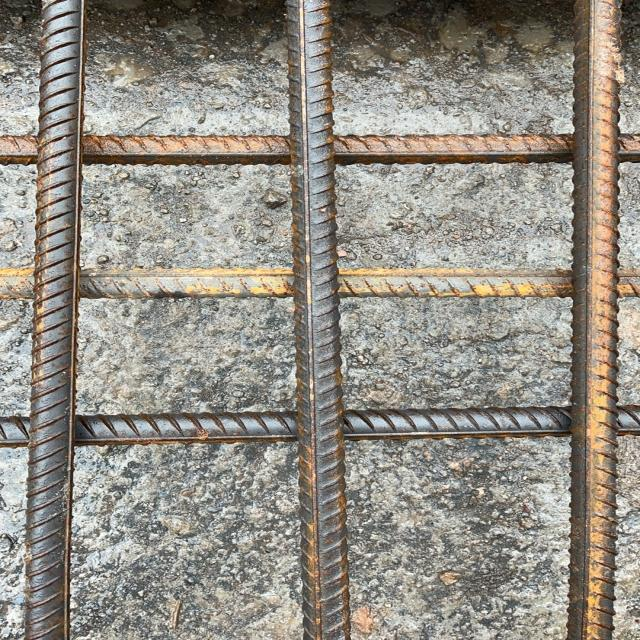ribbed bar: (283, 0, 352, 639), (22, 0, 87, 639), (565, 0, 621, 639), (0, 404, 639, 449), (0, 132, 639, 165), (0, 268, 639, 298)
